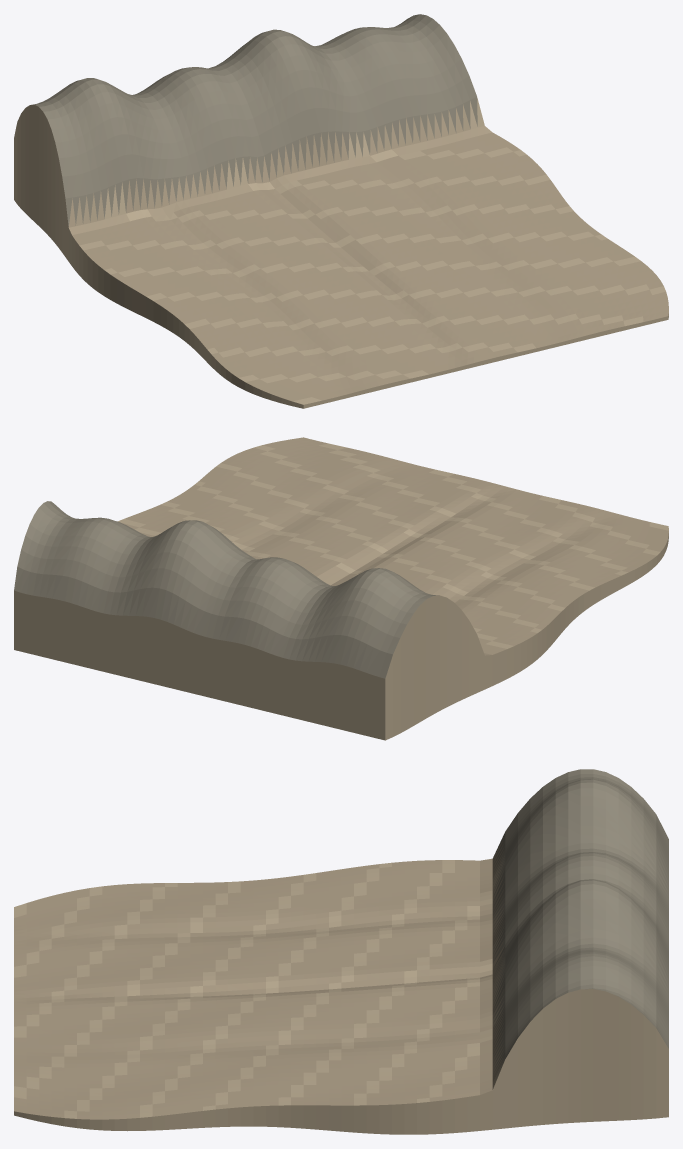
3 views of the same model, one above another, from view 1: azimuth 30°, elevation 25°; view 2: azimuth 150°, elevation 25°; view 3: azimuth 270°, elevation 25° (orthographic). The views are drawn at different scales.
Parts seen in each view (by area): view 1: continuous_shallow_bedrock_erosional_apron_and_abrupt_recedi; view 2: continuous_shallow_bedrock_erosional_apron_and_abrupt_recedi; view 3: continuous_shallow_bedrock_erosional_apron_and_abrupt_recedi.
Boxes of the visible parts, bbox=[...] form: continuous_shallow_bedrock_erosional_apron_and_abrupt_recedi: bbox=[14, 14, 668, 408]; continuous_shallow_bedrock_erosional_apron_and_abrupt_recedi: bbox=[14, 437, 668, 740]; continuous_shallow_bedrock_erosional_apron_and_abrupt_recedi: bbox=[14, 769, 668, 1134].
Bounding box in the file's own units: 228 × 68.19 × 260.
